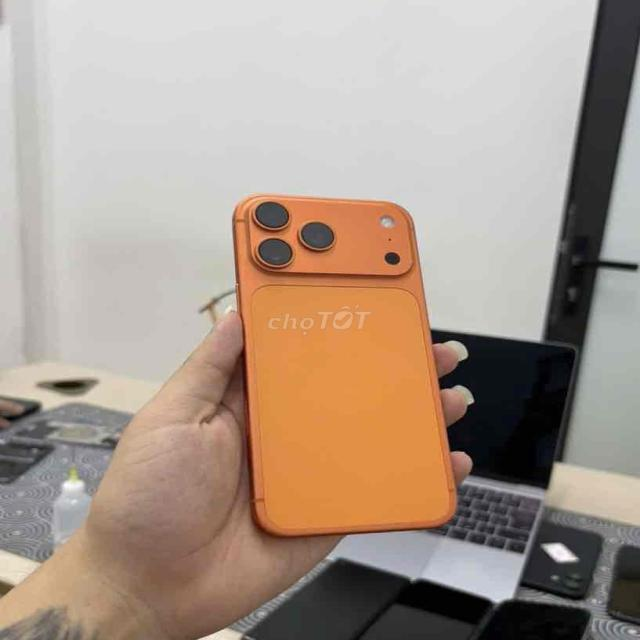gen_17: (231, 188, 472, 542)
